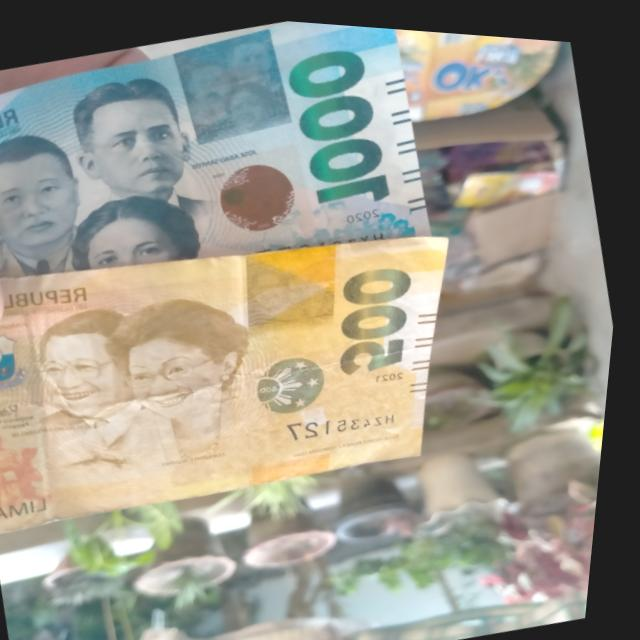concealed_value: (162, 17, 301, 150), (234, 231, 359, 339)
optically_variable_device: (189, 133, 321, 253), (239, 330, 355, 429)
serial_number: (288, 390, 409, 447)
value: (272, 29, 409, 215), (323, 247, 438, 377)
